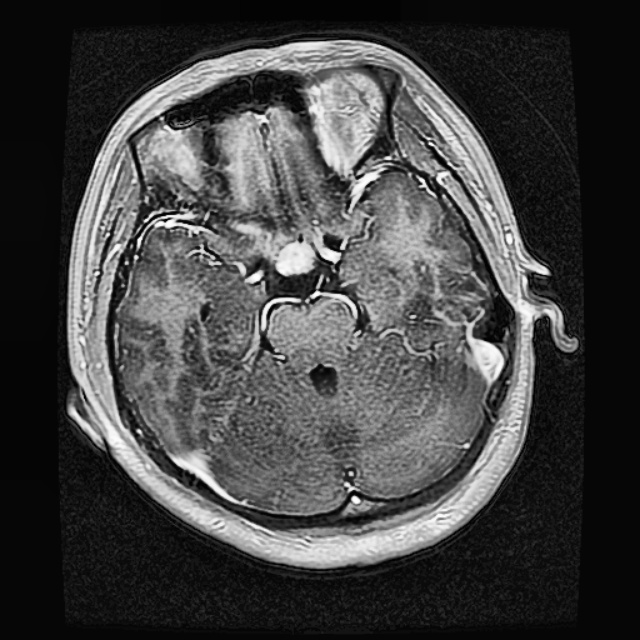Pituitary: (275, 242, 317, 274)
